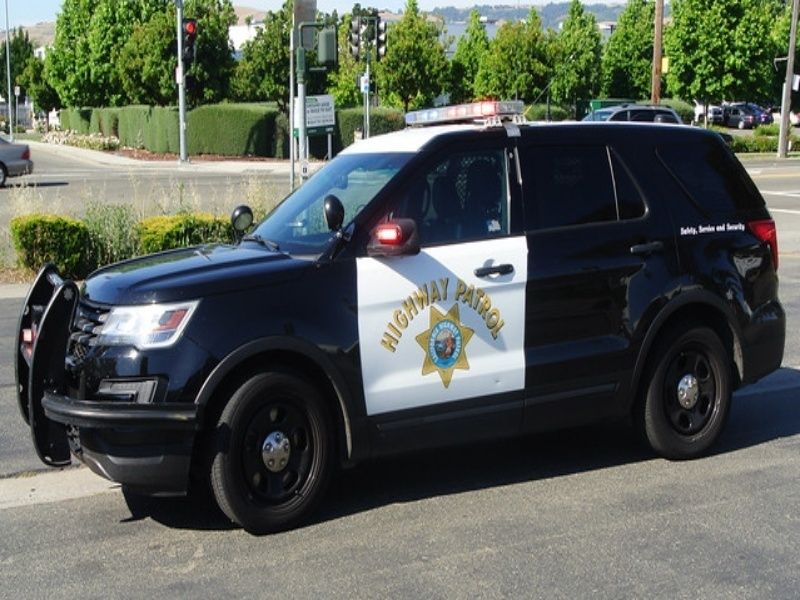policecar: (7, 84, 777, 516)
